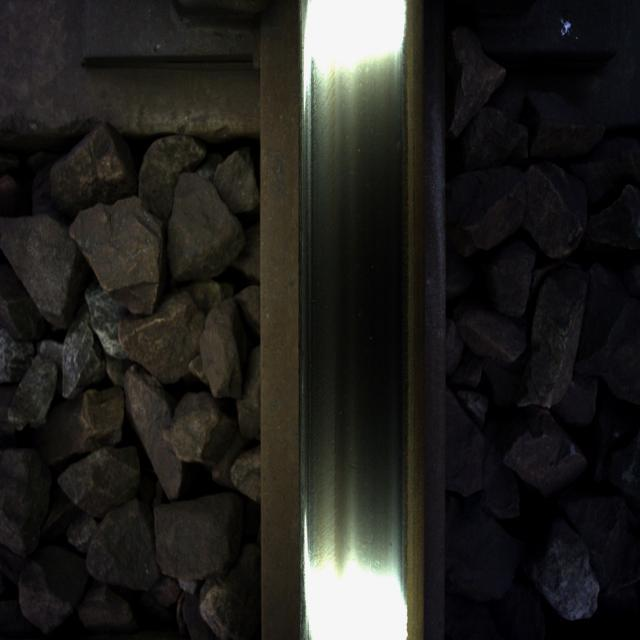break: (304, 32, 408, 584)
